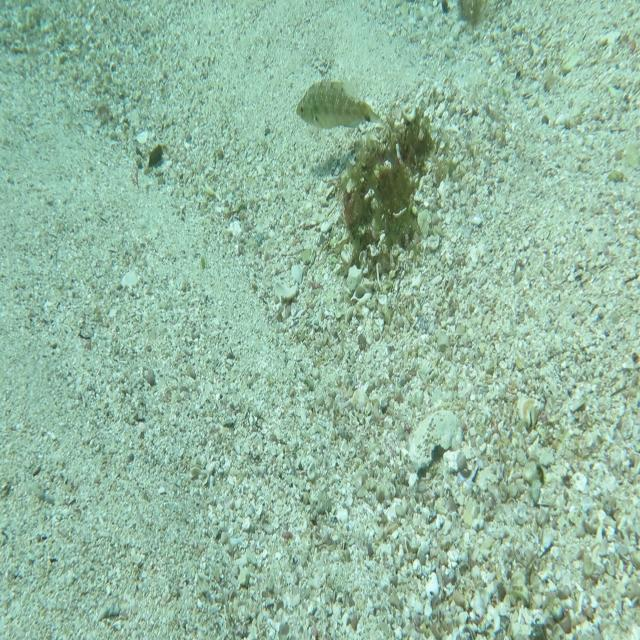SA: (295, 76, 385, 134)
core_nest: (386, 136, 420, 172)
nest: (341, 103, 440, 293)
vegetation: (455, 0, 486, 27), (144, 141, 166, 173), (94, 100, 110, 131)
